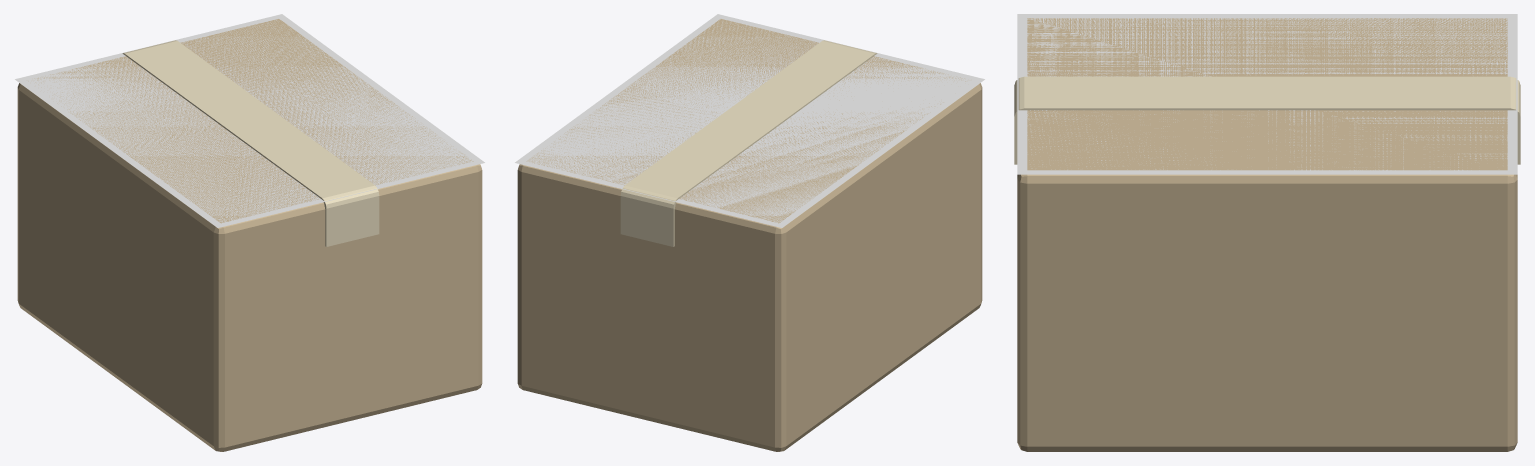
File: cardboard-box.glb
3 views of the same model, side by side, from view 1: azimuth 30°, elevation 25°; view 2: azimuth 150°, elevation 25°; view 3: azimuth 270°, elevation 25° (orthographic). The views are drawn at different scales.
Visible parts, largest first — view 1: Box, _TOP_top, Tape; view 2: Box, _TOP_top, Tape; view 3: Box, _TOP_top, Tape.
Part boxes in pixels (box(x1,y1,x2,y2)): Box: box(17, 19, 482, 451); _TOP_top: box(15, 14, 484, 227); Tape: box(122, 40, 379, 246); Box: box(517, 19, 982, 451); _TOP_top: box(515, 14, 984, 227); Tape: box(620, 40, 877, 246); Box: box(1017, 18, 1517, 451); _TOP_top: box(1017, 14, 1517, 174); Tape: box(1014, 76, 1520, 164).
Bounding box in the file's own units: 0.38 × 0.312 × 0.506.
